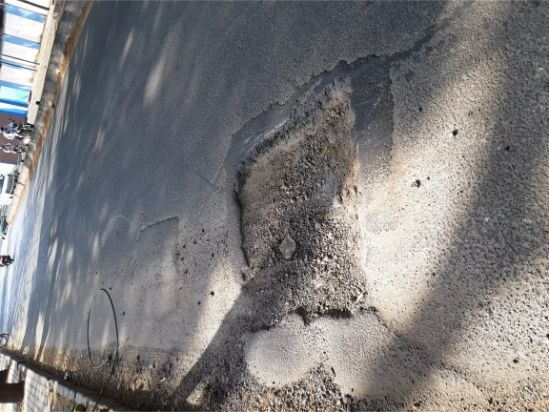pothole: (224, 70, 380, 330)
